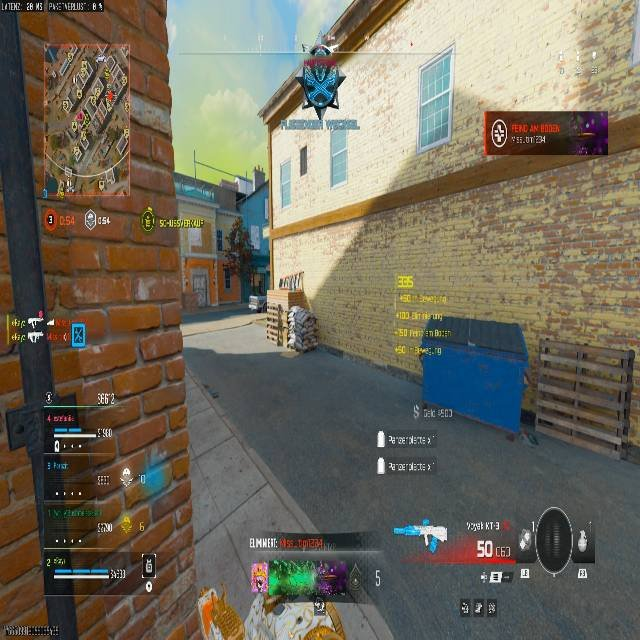head: (310, 44, 333, 58)
player: (298, 43, 346, 120), (222, 223, 260, 308)
